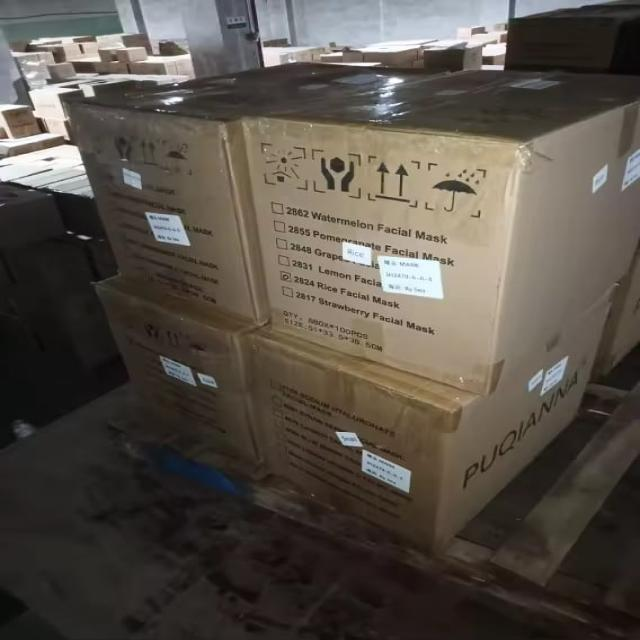carton_box: (238, 49, 640, 386), (243, 314, 623, 555), (51, 54, 287, 332), (74, 261, 269, 475)
handle_with_care_label: (306, 144, 364, 201), (101, 138, 144, 167)
keep_dry_label: (433, 154, 489, 222), (160, 137, 200, 178)
protect_from_heat_label: (256, 133, 311, 196)
this_side_up_label: (369, 151, 422, 208), (132, 131, 164, 166), (108, 142, 141, 165)
